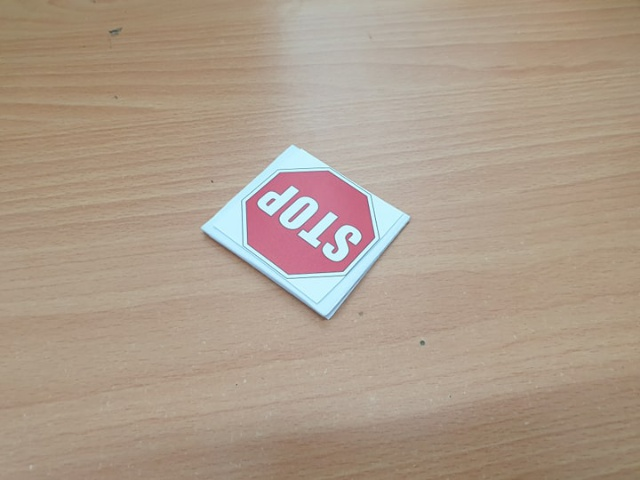Stop: (243, 168, 381, 275)
